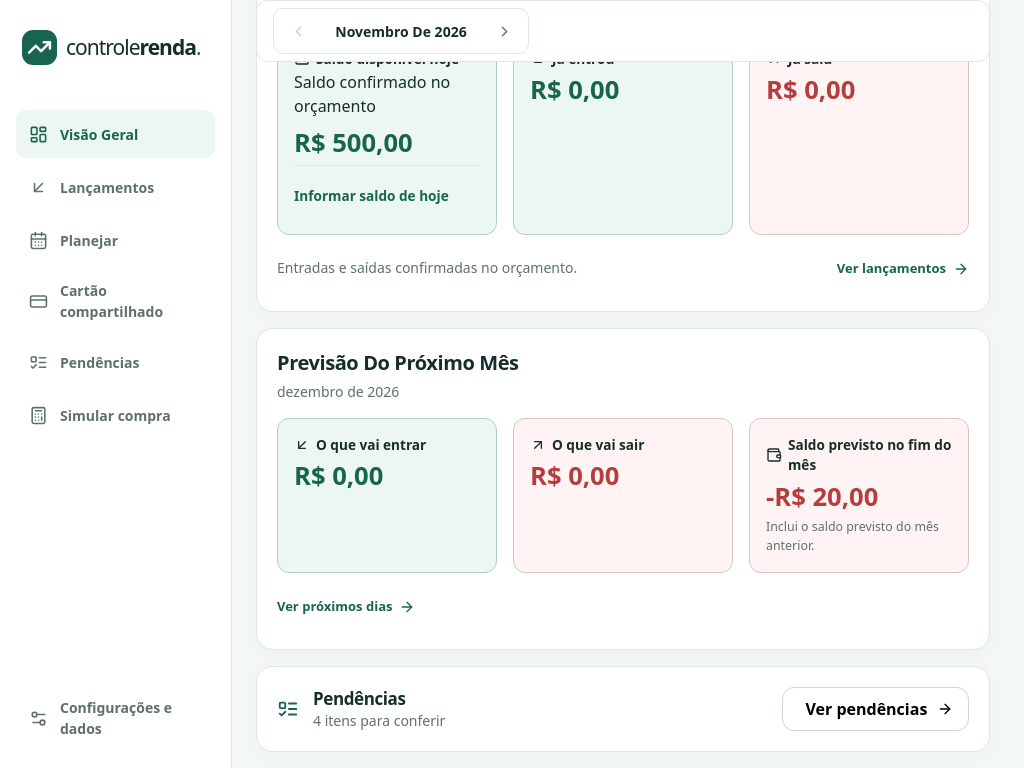
Test: deixa a linha do tempo em Planejar e o saldo atual na Visão Geral
(page scrolled)
Check: the element "Saldo disponível hoje" shows "R$ 500,00", box 294,125 -> 413,160
Check: the heading "Saldo acumulado nos próximos meses" is not shown
Click the button "Ver próximos dias".
click(346, 607)  # box 277,585 -> 416,629
(page scrolled)
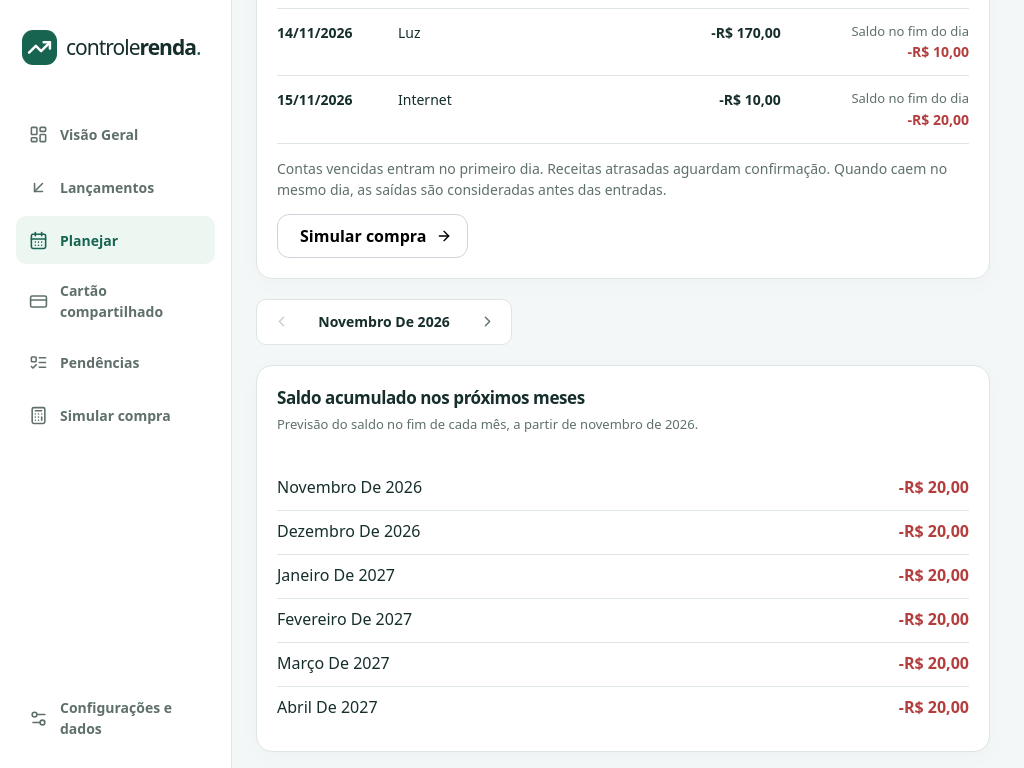
Check: the text "Internet" is shown, box 398,90 -> 452,109
Check: the heading "Saldo acumulado nos próximos meses" is shown, box 277,386 -> 585,409
Check: the heading "Saldo disponível hoje" is gone
